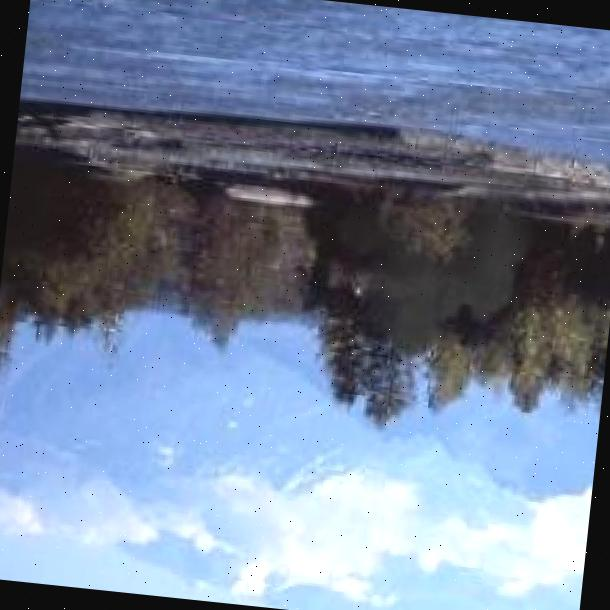smoke: (317, 105, 549, 381)
